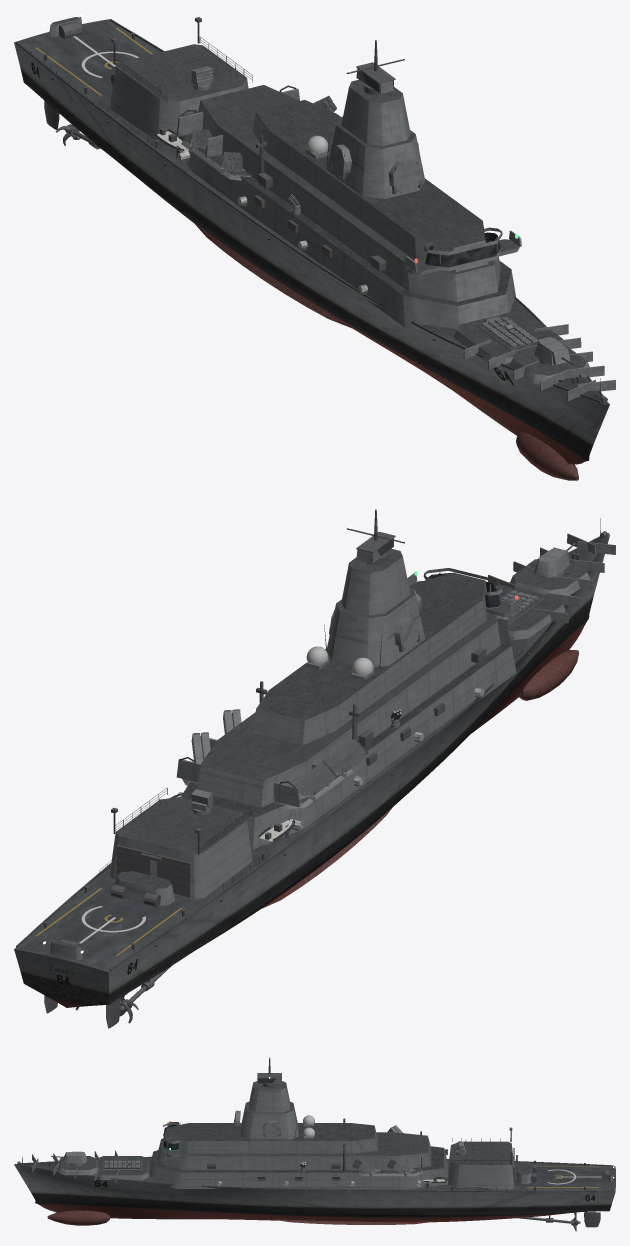
File: escort_hull.glb
3 renders of one model, top to bottom at view 1: azimuth 30°, elevation 25°; view 2: azimuth 150°, elevation 25°; view 3: azimuth 270°, elevation 25°, orthographic. The views are drawn at different scales.
Parts seen in each view (by area): view 1: fg_super, fg_hull, fg_detail; view 2: fg_super, fg_hull, fg_detail; view 3: fg_super, fg_hull, fg_detail.
Boxes of the visible parts, left/top/right/bottom form: fg_super: left=16, top=17, right=615, bottom=402; fg_hull: left=14, top=19, right=609, bottom=480; fg_detail: left=19, top=14, right=601, bottom=442; fg_super: left=16, top=509, right=615, bottom=970; fg_hull: left=14, top=533, right=609, bottom=1028; fg_detail: left=19, top=518, right=601, bottom=975; fg_super: left=17, top=1057, right=613, bottom=1192; fg_hull: left=14, top=1158, right=615, bottom=1231; fg_detail: left=22, top=1077, right=614, bottom=1210.
Bounding box in the file's own units: 23.17 × 46.27 × 151.
Materials: 18 (18 with a texture image).
